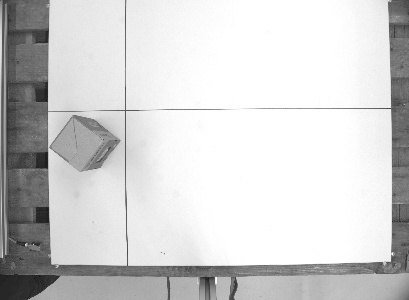b4: (47, 112, 120, 174)
